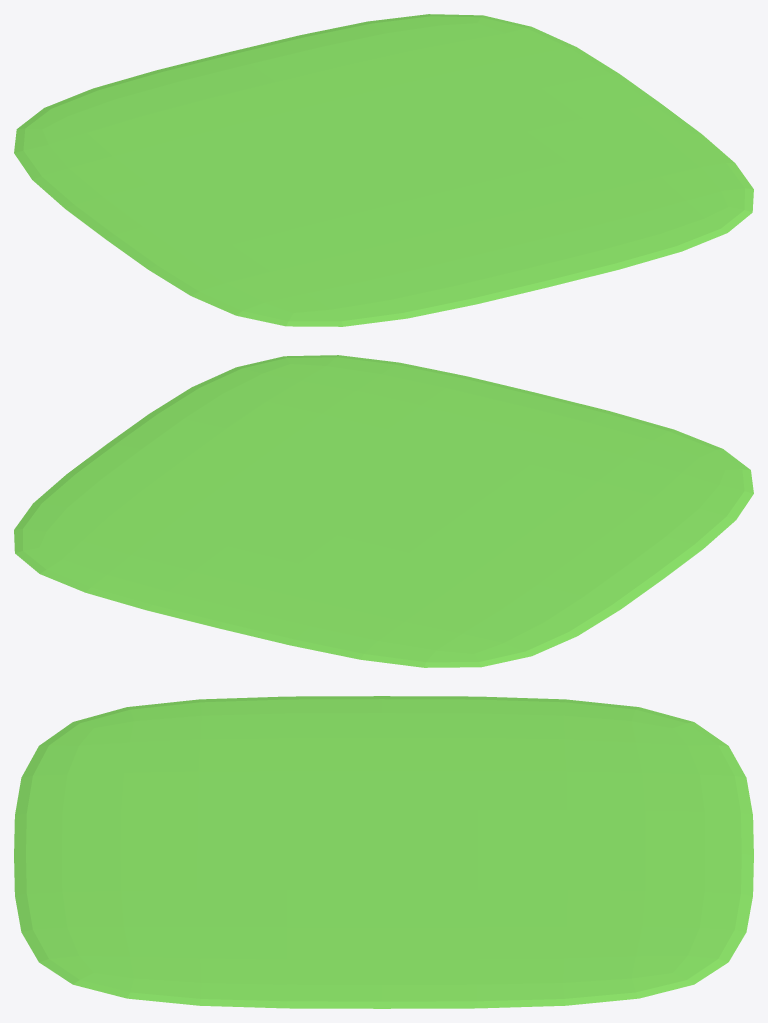
Rendered from carpet.gltf.
The picture shows the model from 3 angles, top to bottom: view 1: azimuth 30°, elevation 25°; view 2: azimuth 150°, elevation 25°; view 3: azimuth 270°, elevation 25°; orthographic projection. The views are drawn at different scales.
Parts seen in each view (by area): view 1: carpet; view 2: carpet; view 3: carpet.
Boxes of the visible parts, x1,y1,x2,y2 form: carpet: (14, 14, 753, 326); carpet: (14, 355, 753, 667); carpet: (14, 696, 753, 1008).
Size of the model in its own units: 1.63 by 0.03 by 1.63.
